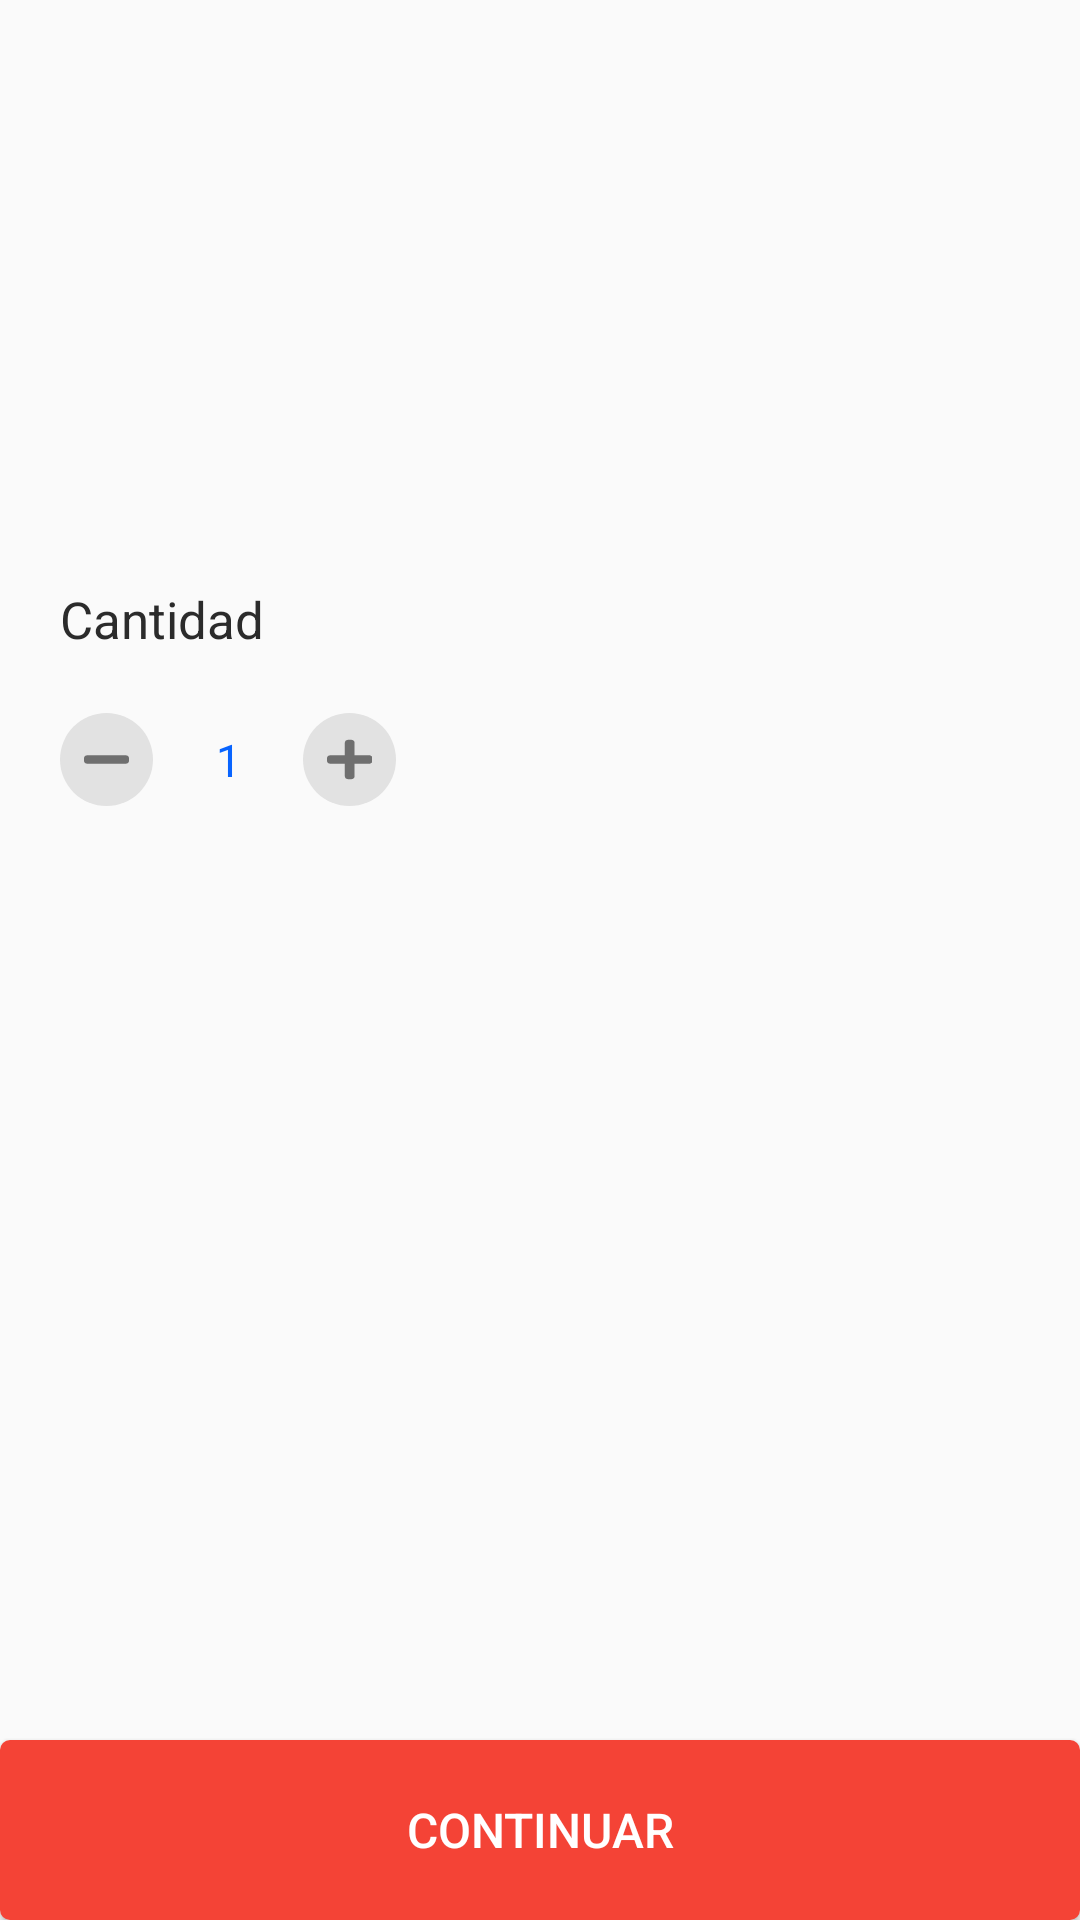

Named icons in this screenshot (1080×1920) and their centers, point (x, y):
minus: point (106, 759)
plus: point (349, 759)
